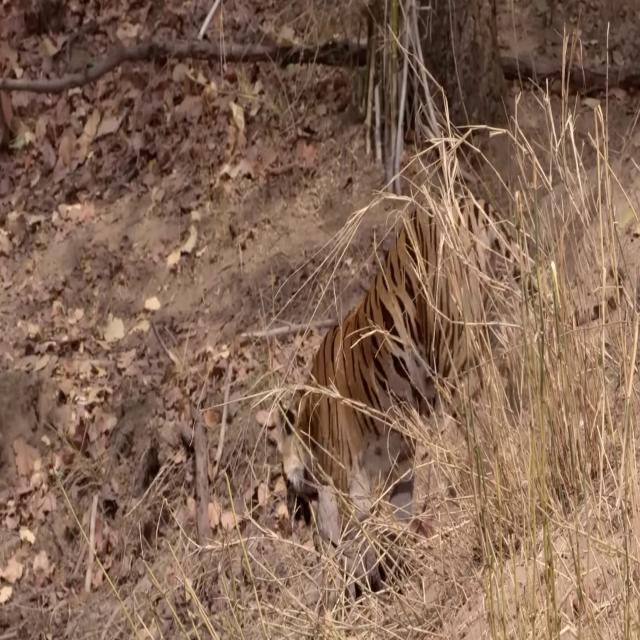tiger: (277, 204, 625, 602)
